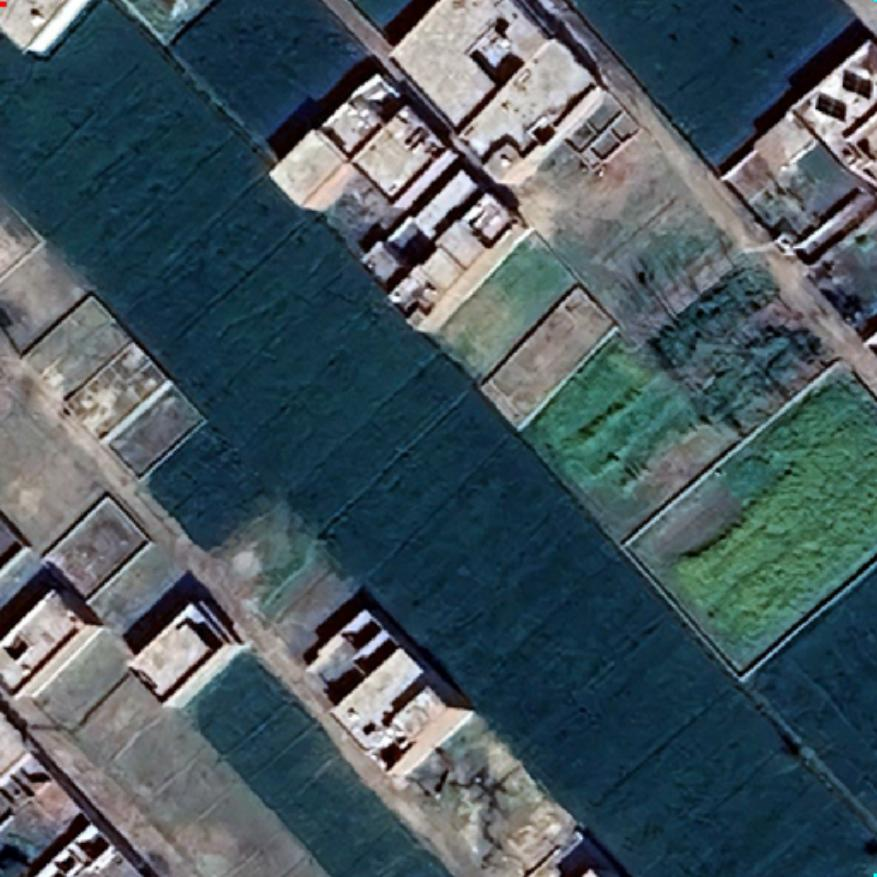Solarpanel: (812, 90, 850, 124), (840, 66, 876, 100)
